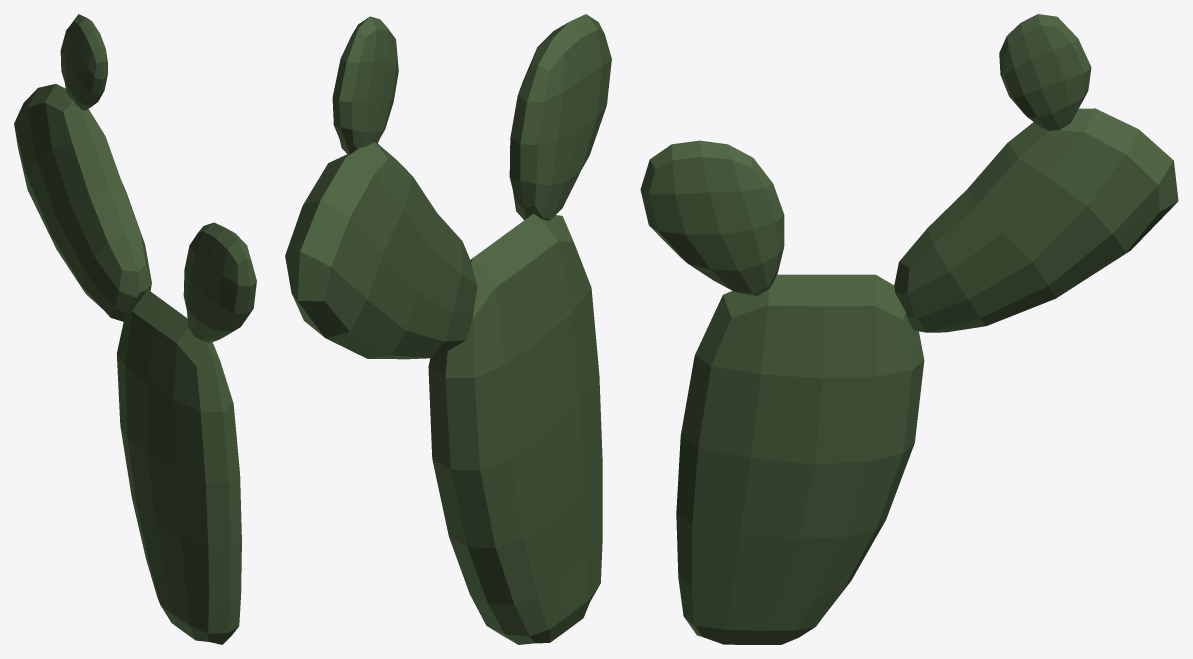
The model's file is Cactus_5.gltf.
3 views of the same model, side by side, from view 1: azimuth 30°, elevation 25°; view 2: azimuth 150°, elevation 25°; view 3: azimuth 270°, elevation 25° (orthographic). The views are drawn at different scales.
Visible parts, largest first — view 1: Cactus_5; view 2: Cactus_5; view 3: Cactus_5.
Part boxes in pixels (x1=…): Cactus_5: x1=14, y1=14, x2=256, y2=644; Cactus_5: x1=285, y1=14, x2=611, y2=644; Cactus_5: x1=640, y1=14, x2=1178, y2=644.
Size of the model in its own units: 0.1116 by 0.8812 by 0.6804.
